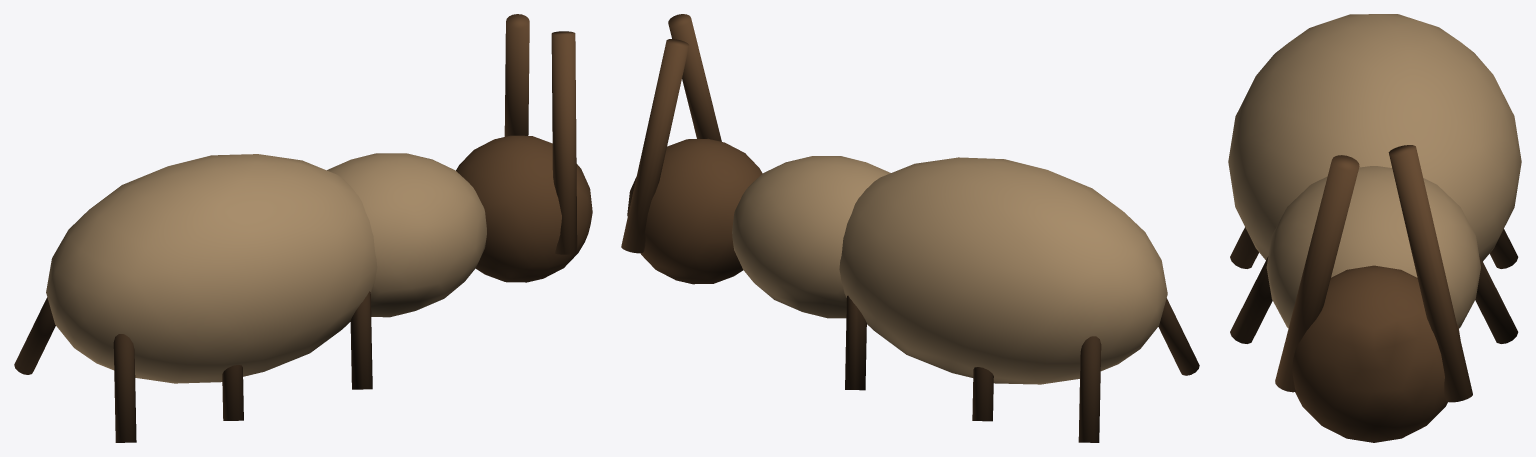
File: termite.obj
The picture shows the model from 3 angles, left to right: view 1: azimuth 30°, elevation 25°; view 2: azimuth 150°, elevation 25°; view 3: azimuth 270°, elevation 25°; orthographic projection. The views are drawn at different scales.
Parts seen in each view (by area): view 1: termite; view 2: termite; view 3: termite.
Boxes of the visible parts, x1,y1,x2,y2 form: termite: (14,14,592,442); termite: (621,14,1199,442); termite: (1228,14,1521,442).
Size of the model in its own units: 0.4084 by 0.201 by 0.1653.
